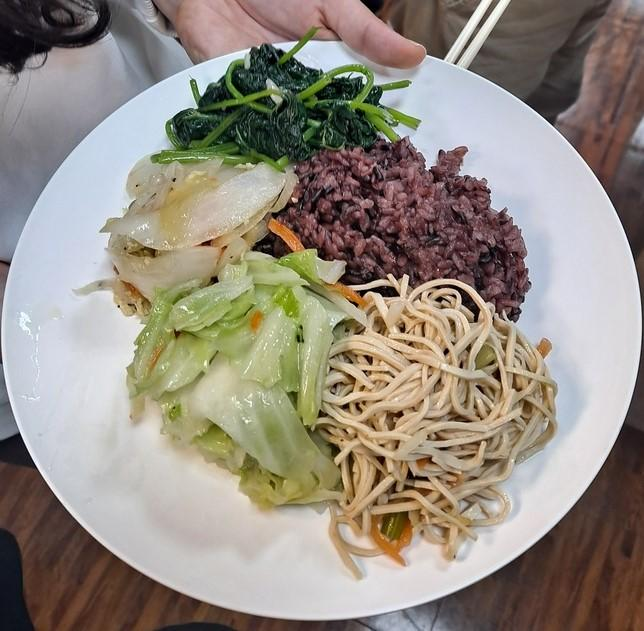big fried chicken leg: (6, 33, 644, 621)
braised fish: (293, 147, 530, 321)
braised fish fillet: (337, 283, 560, 556), (128, 250, 347, 508), (109, 149, 296, 309), (167, 40, 393, 158)
